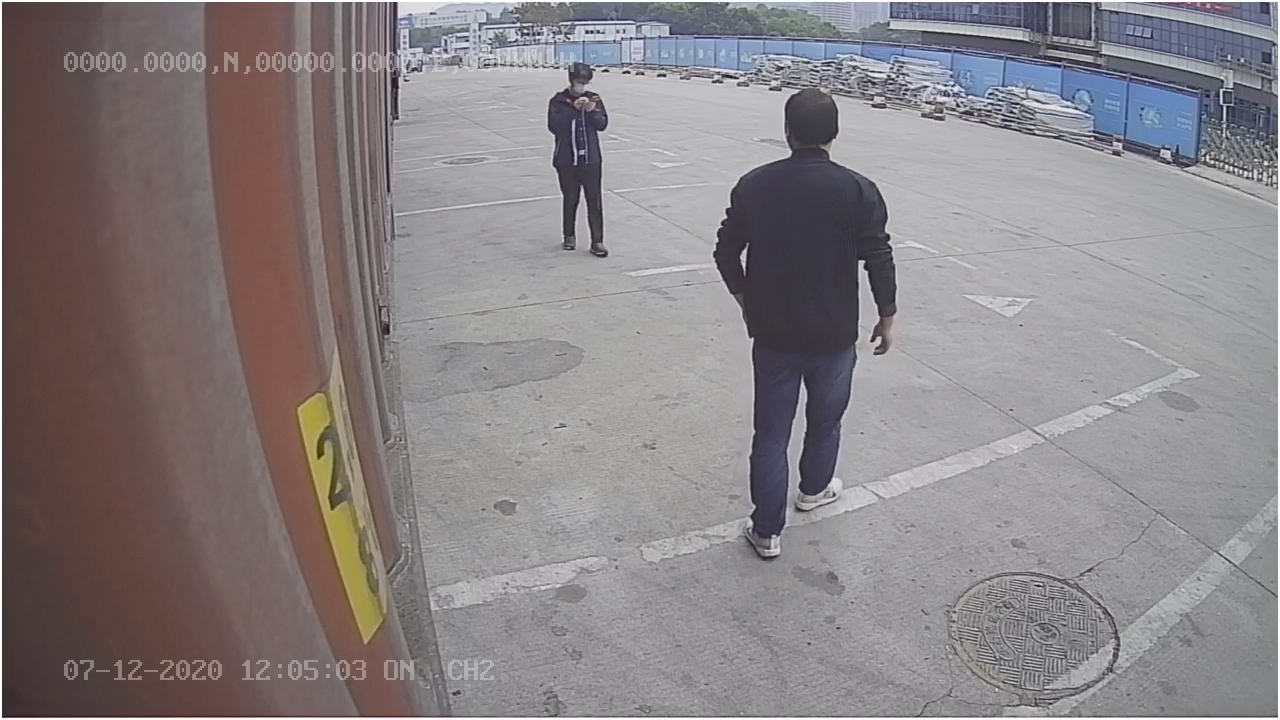person: (713, 79, 897, 562)
